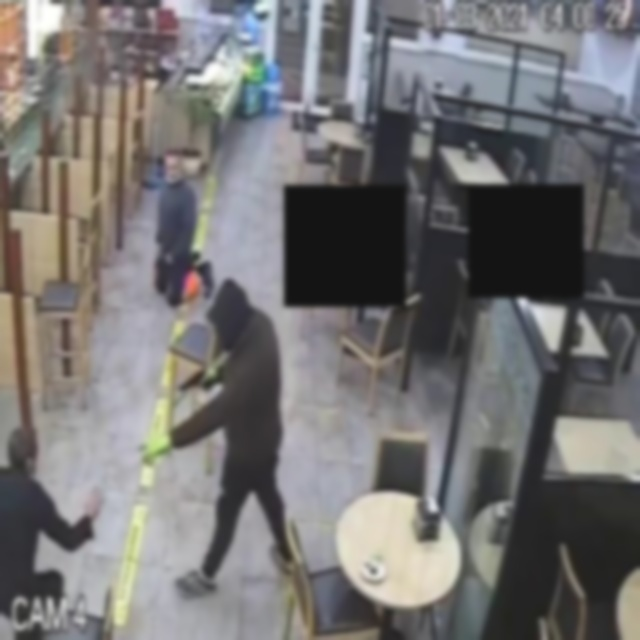gun: (166, 358, 226, 409)
